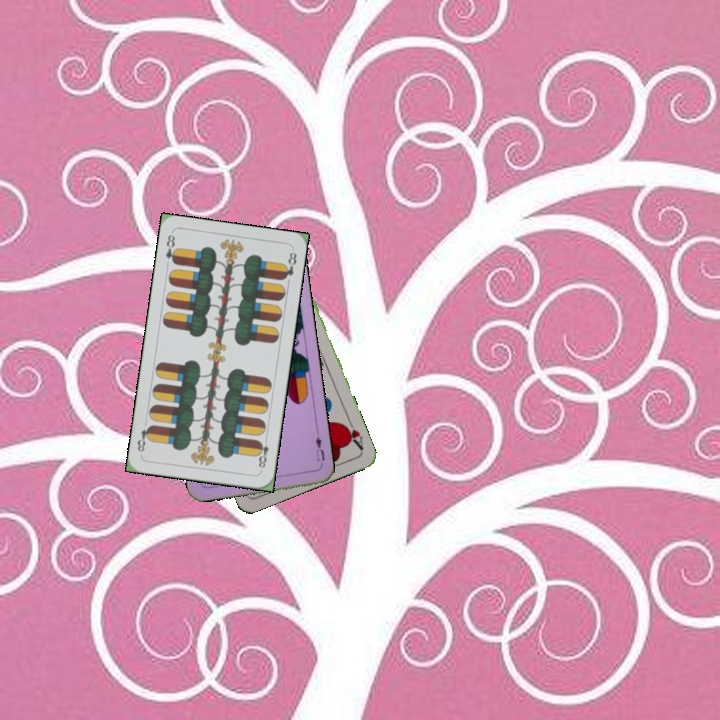E8: (253, 433, 271, 473), (162, 231, 180, 267)
EU: (312, 428, 327, 469)
HA: (339, 414, 366, 453)
